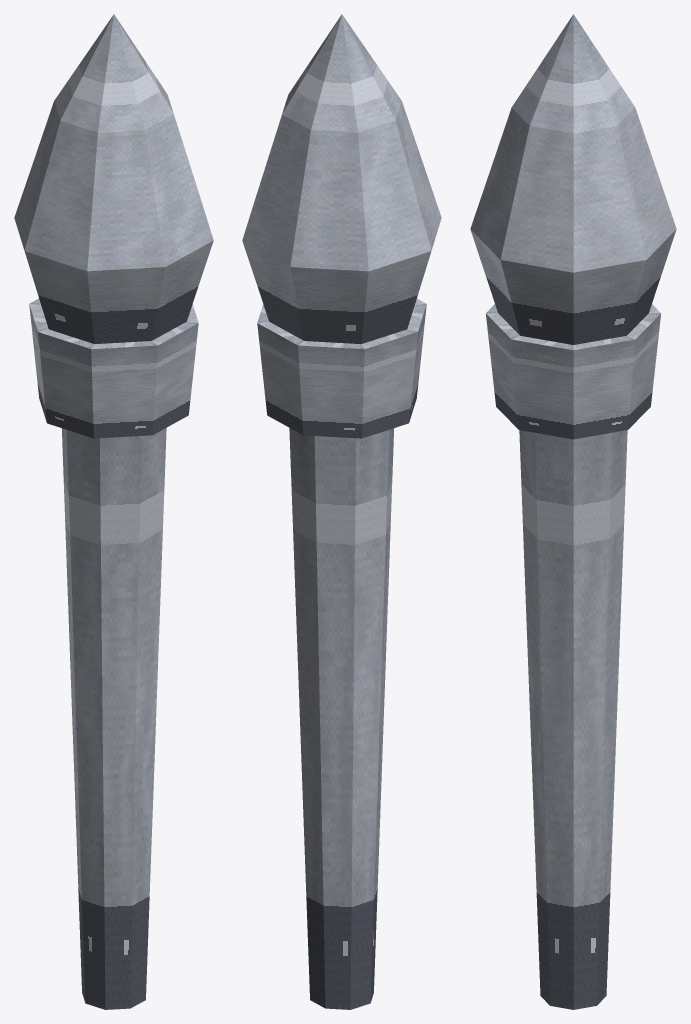
File: tocha_de_chao_ferro.glb
3 renders of one model, left to right at view 1: azimuth 30°, elevation 25°; view 2: azimuth 150°, elevation 25°; view 3: azimuth 270°, elevation 25°, orthographic.
Parts seen in each view (by area): view 1: tocha_de_chao_ferro; view 2: tocha_de_chao_ferro; view 3: tocha_de_chao_ferro.
Boxes of the visible parts, <box> form: tocha_de_chao_ferro: <box>14,14,213,1009</box>; tocha_de_chao_ferro: <box>242,14,441,1009</box>; tocha_de_chao_ferro: <box>470,14,676,1009</box>.
Bounding box in the file's own units: 0.2 × 1.05 × 0.2.
1 material, 1 textured.
